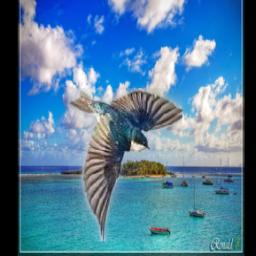Swallow: (69, 88, 183, 241)
